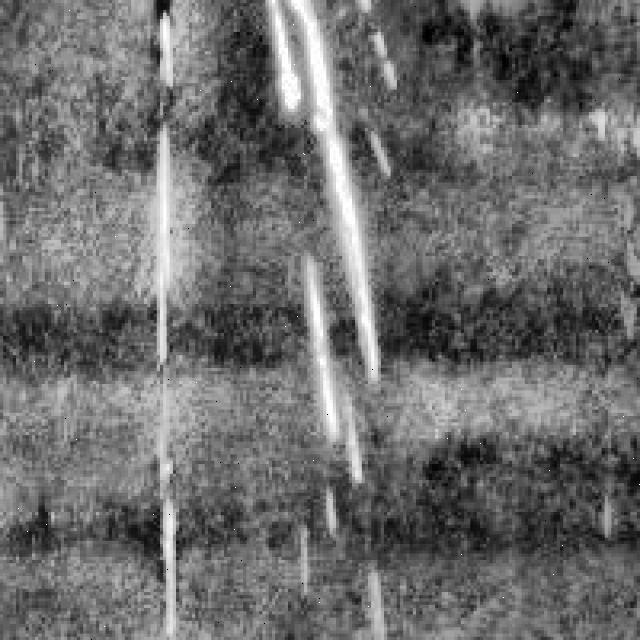Inclusion: (263, 0, 407, 394), (150, 0, 198, 624), (288, 243, 374, 477)
